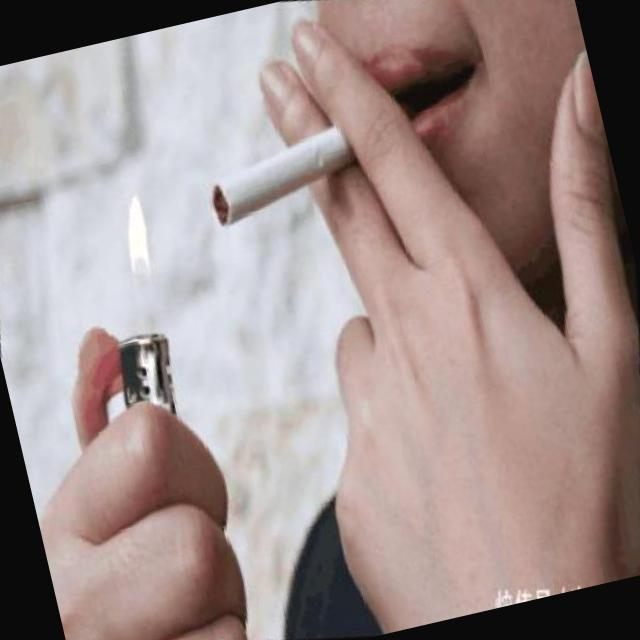smoke: (191, 99, 378, 258)
